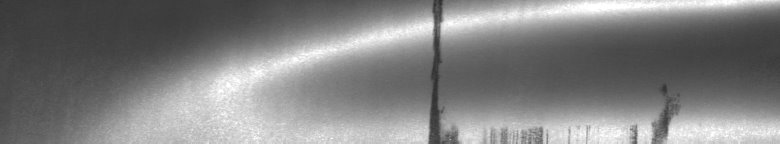ke: (252, 4, 776, 136)
